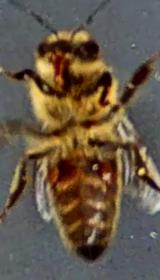varroa_mite: (94, 154, 118, 188), (42, 158, 61, 194)
